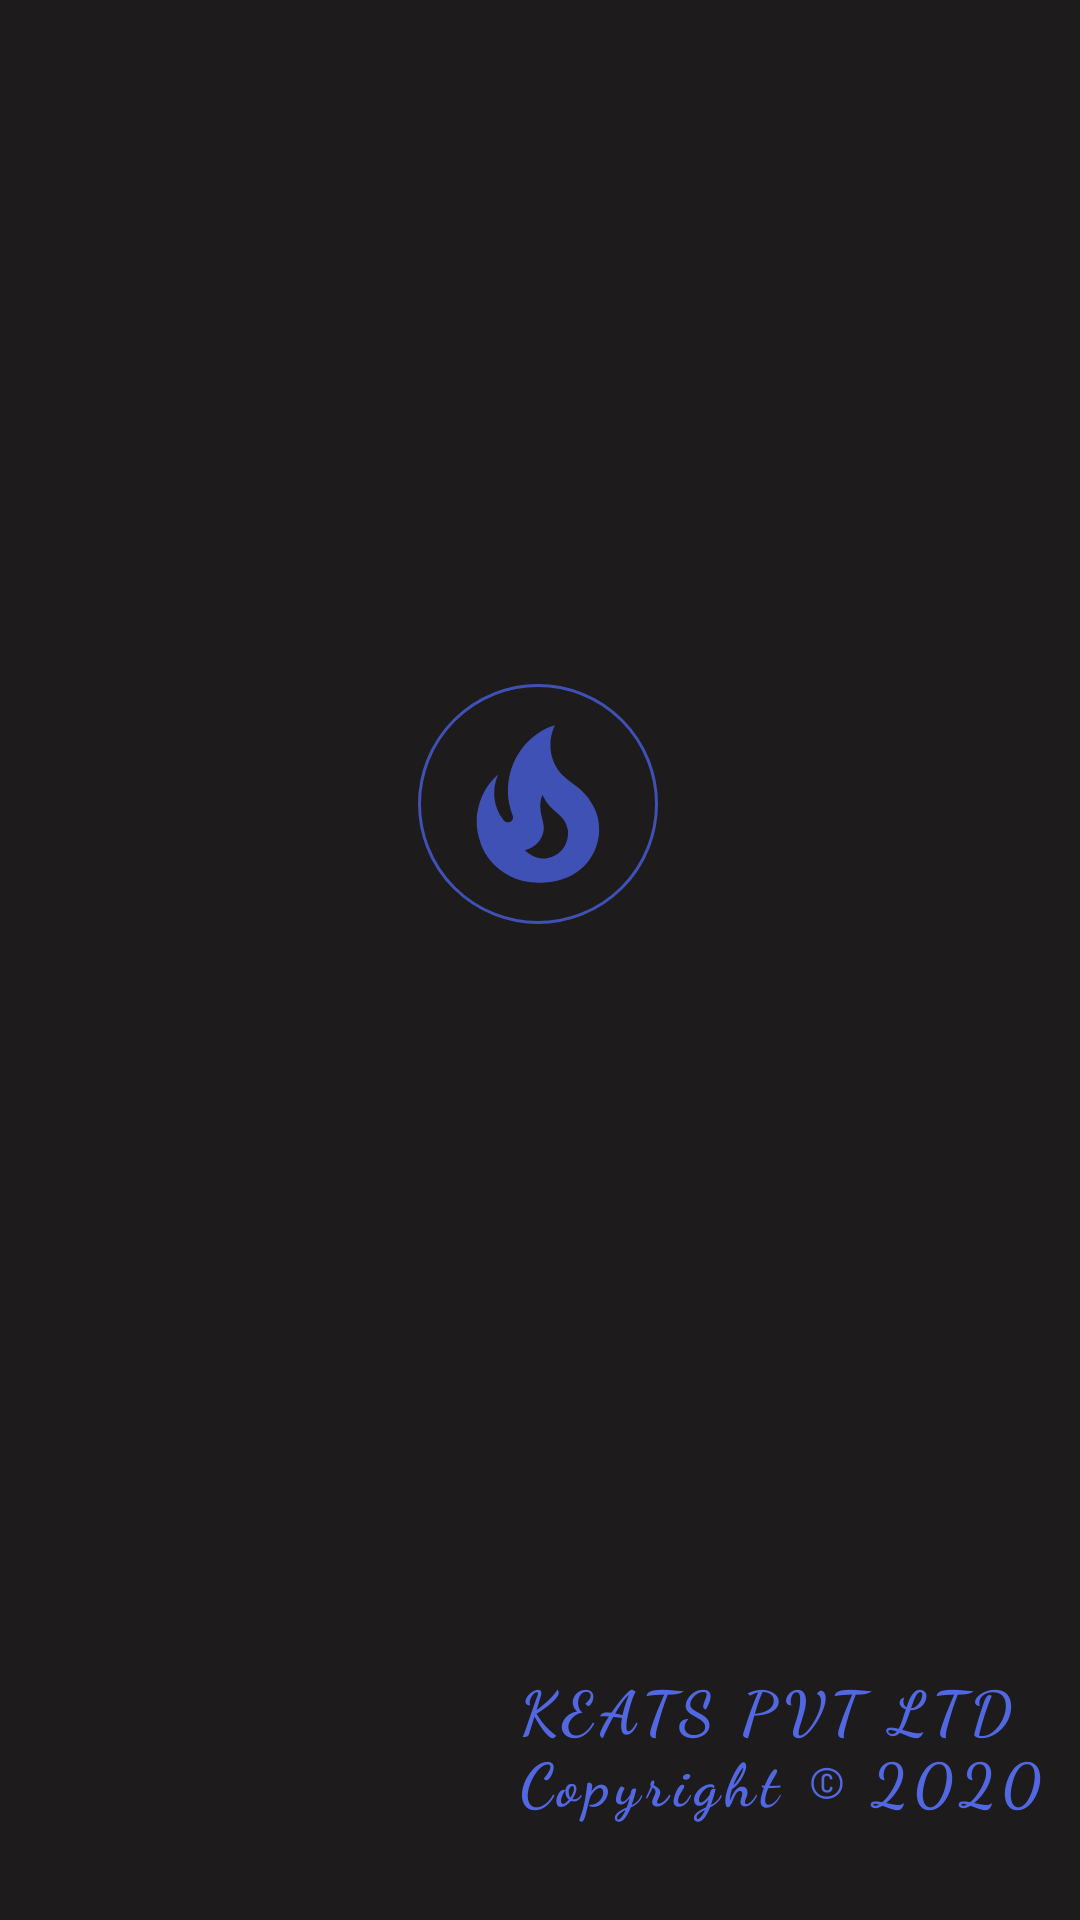

Icons on this 1080px×1920px Android screen, each with its box as [x1,y1,x2,y2]:
fire: [418,684,658,924]
